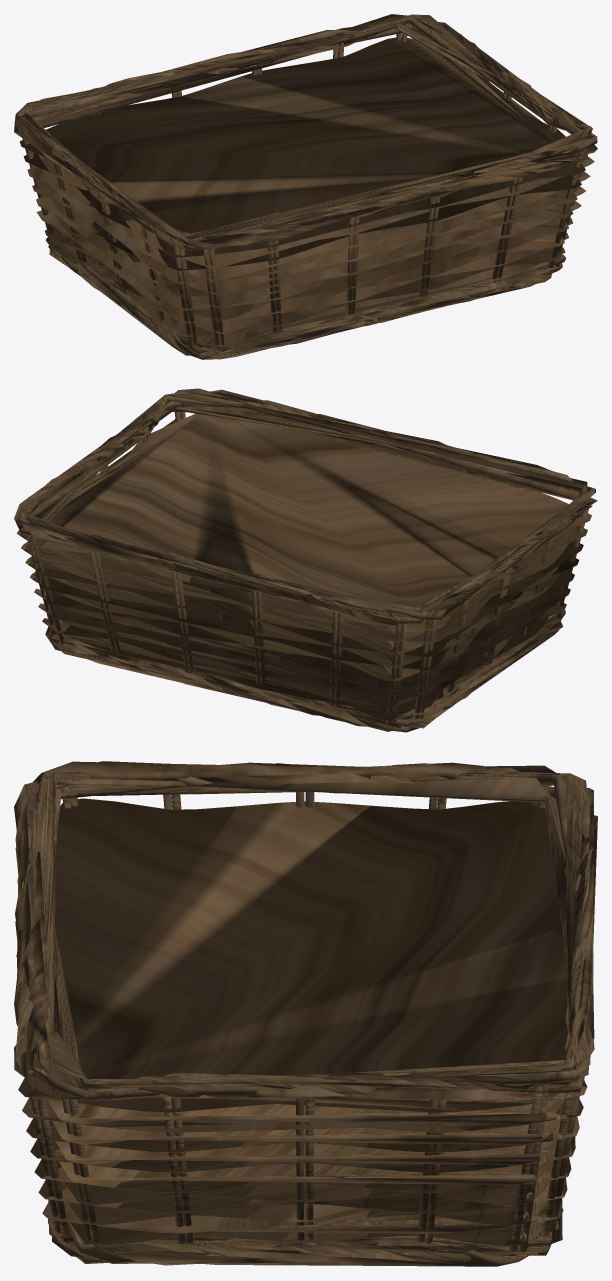
Rendered from basket.glb.
The picture shows the model from 3 angles, top to bottom: view 1: azimuth 30°, elevation 25°; view 2: azimuth 150°, elevation 25°; view 3: azimuth 270°, elevation 25°; orthographic projection. The views are drawn at different scales.
Parts seen in each view (by area): view 1: basket; view 2: basket; view 3: basket.
Part boxes in pixels (box(x1,y1,x2,y2)): basket: box(14, 14, 597, 359); basket: box(14, 388, 597, 732); basket: box(14, 761, 597, 1266).
Bounding box in the file's own units: 0.383 × 0.1174 × 0.2928.
1 material, 1 textured.
